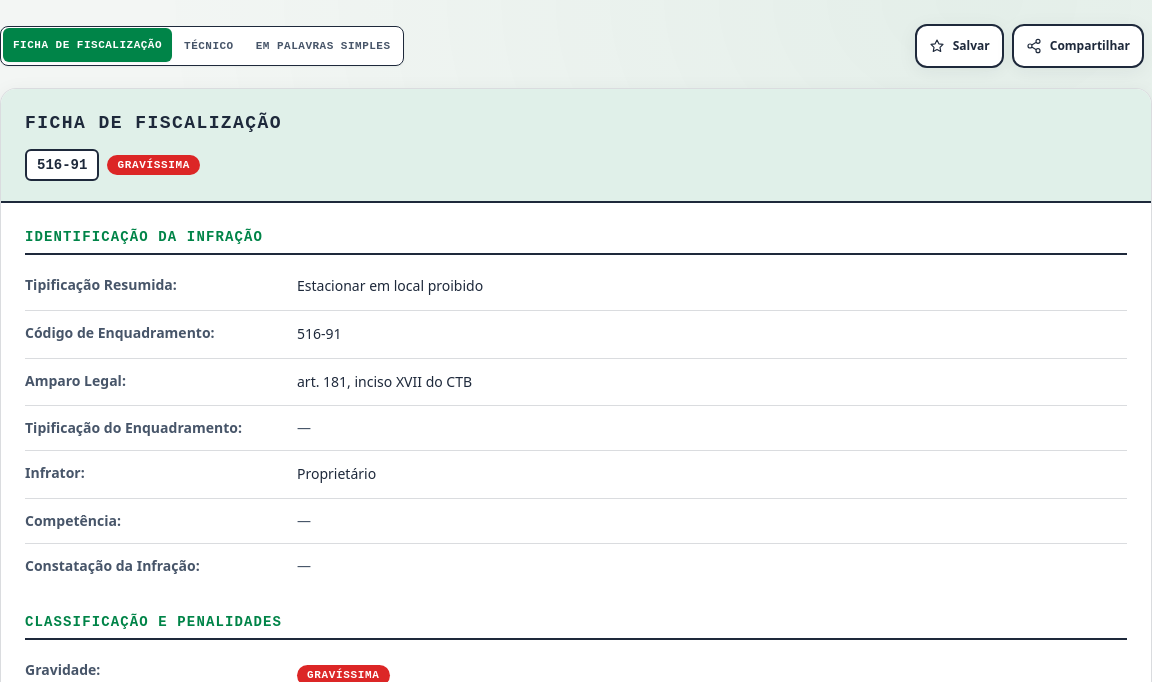
Test: ConsultaResult › shows the collected document and the responsible party on the technical view
Click the tab "Técnico" at (209, 46), box [174,29,244,63]
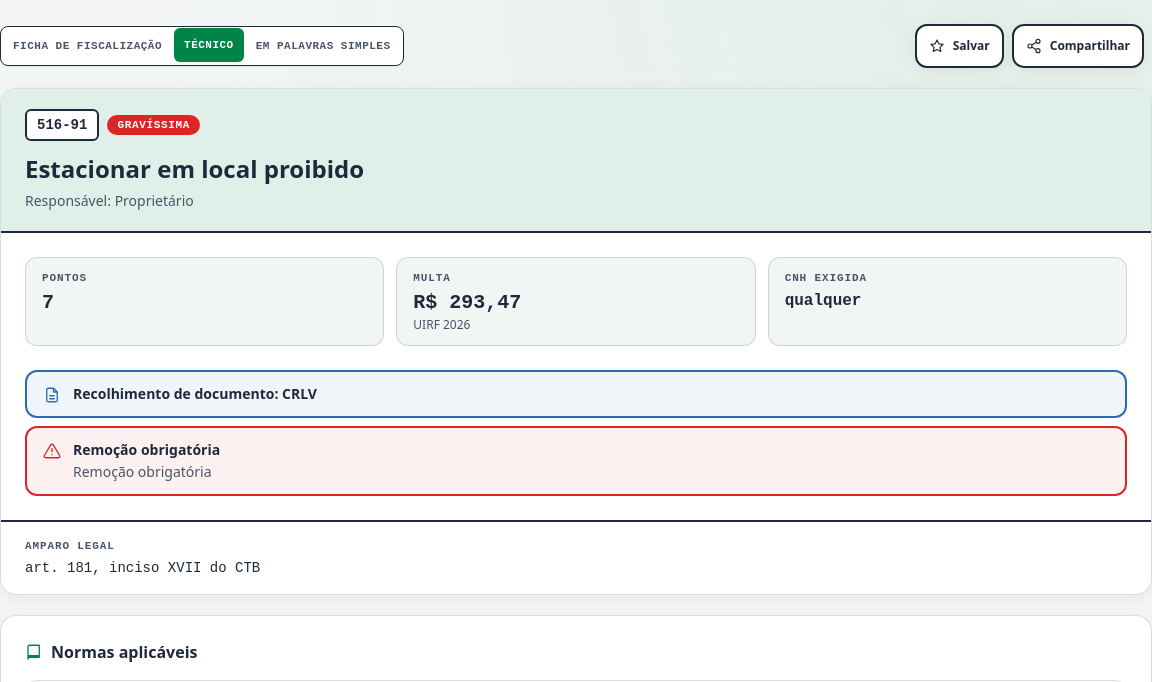
Expected: the text "Recolhimento de documento: CRLV" is shown, [73,384,317,404]
Expected: the text "Responsável: Proprietário" is shown, [25,191,194,210]
